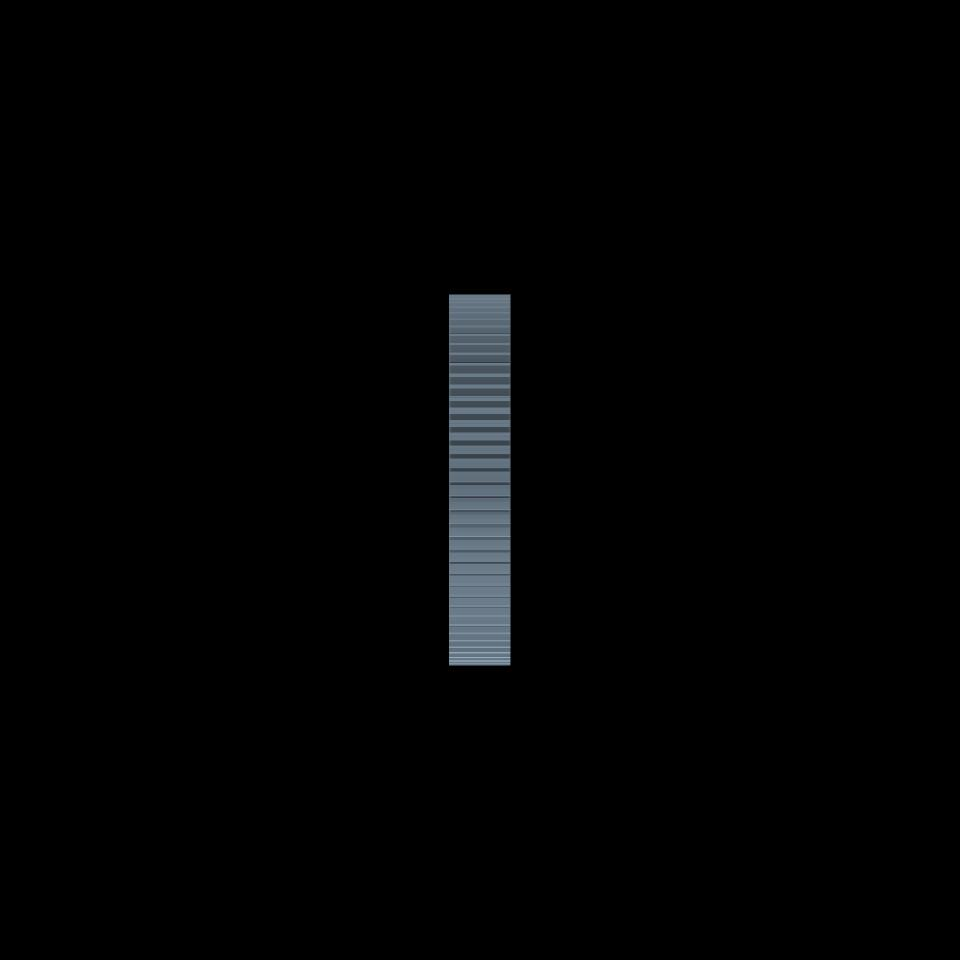Straight: (448, 294, 509, 665)
